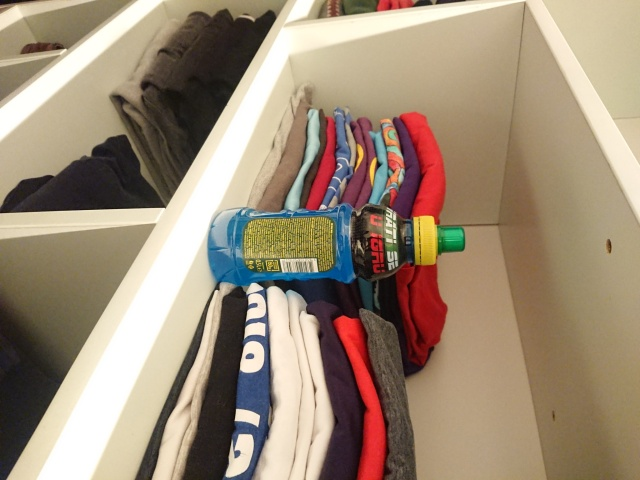Vindi Iso Sport Forest Strawberries 500mL: (205, 201, 468, 286)
